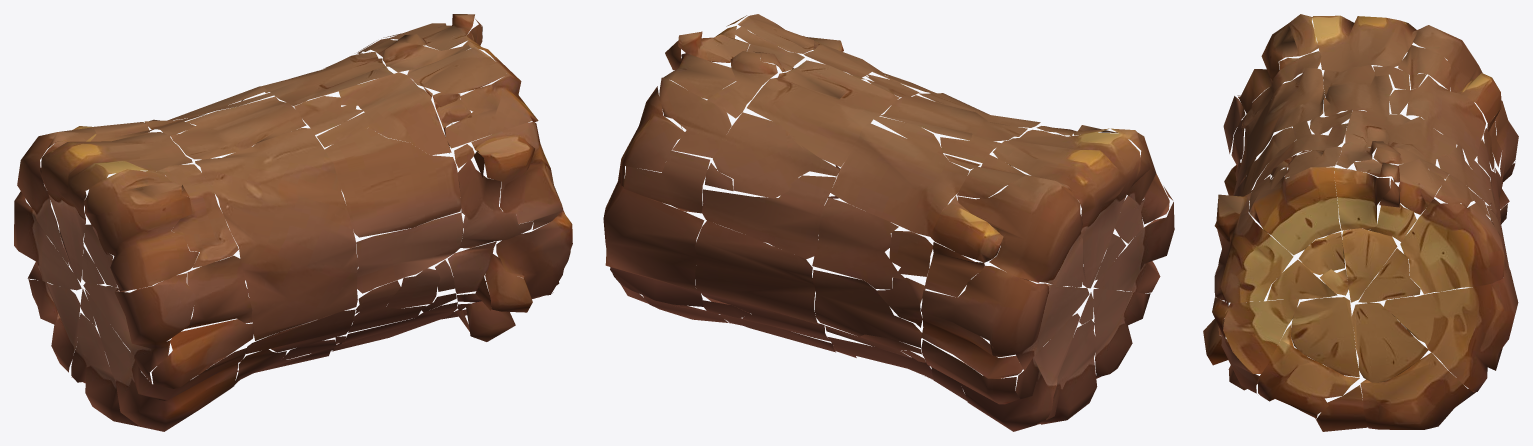
Rendered from tora.glb.
3 renders of one model, left to right at view 1: azimuth 30°, elevation 25°; view 2: azimuth 150°, elevation 25°; view 3: azimuth 270°, elevation 25°, orthographic. The views are drawn at different scales.
Parts seen in each view (by area): view 1: tripo_node_e89472b7-29de-41c4-adae-b47747d2cb74; view 2: tripo_node_e89472b7-29de-41c4-adae-b47747d2cb74; view 3: tripo_node_e89472b7-29de-41c4-adae-b47747d2cb74.
Part boxes in pixels (<box>): tripo_node_e89472b7-29de-41c4-adae-b47747d2cb74: <box>14,14,572,431</box>; tripo_node_e89472b7-29de-41c4-adae-b47747d2cb74: <box>603,14,1174,431</box>; tripo_node_e89472b7-29de-41c4-adae-b47747d2cb74: <box>1203,14,1518,431</box>.
Bounding box in the file's own units: 1 × 0.6383 × 0.615.
1 material, 1 textured.
